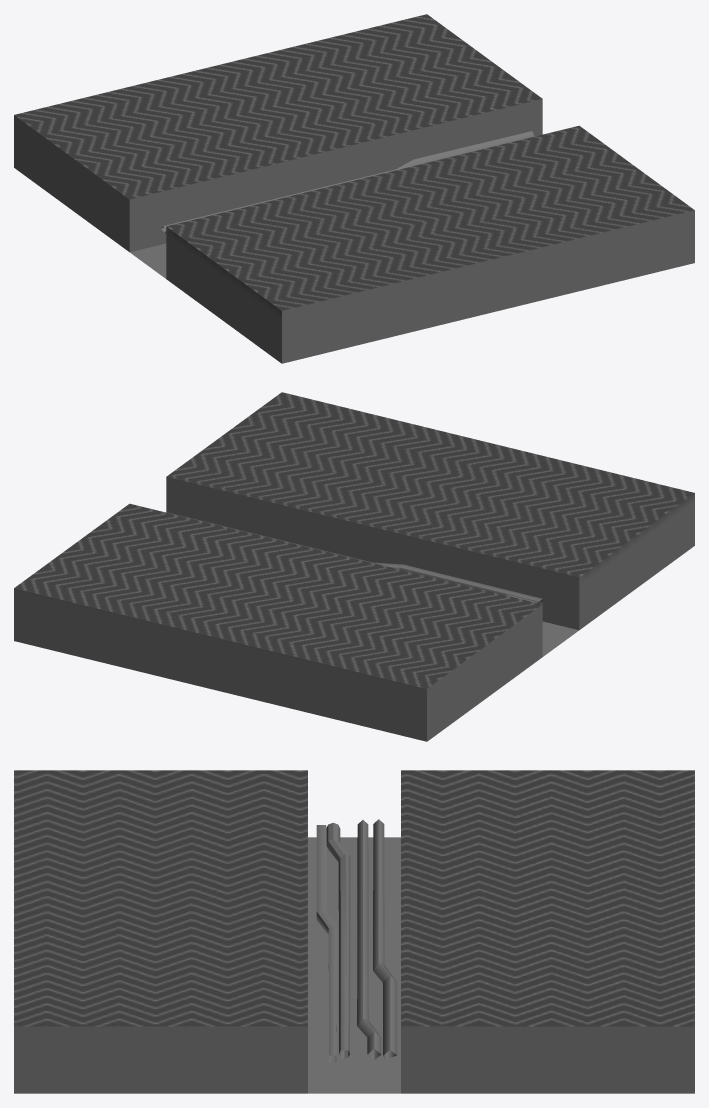
The picture shows the model from 3 angles, top to bottom: view 1: azimuth 30°, elevation 25°; view 2: azimuth 150°, elevation 25°; view 3: azimuth 270°, elevation 25°; orthographic projection. The views are drawn at different scales.
Visible parts, largest first — view 1: SM_B2_Part3; view 2: SM_B2_Part3; view 3: SM_B2_Part3.
Part boxes in pixels (bbox=[...]): SM_B2_Part3: bbox=[14, 14, 694, 363]; SM_B2_Part3: bbox=[14, 392, 694, 741]; SM_B2_Part3: bbox=[14, 770, 694, 1093].
Size of the model in its own units: 406 by 456 by 49.61.
